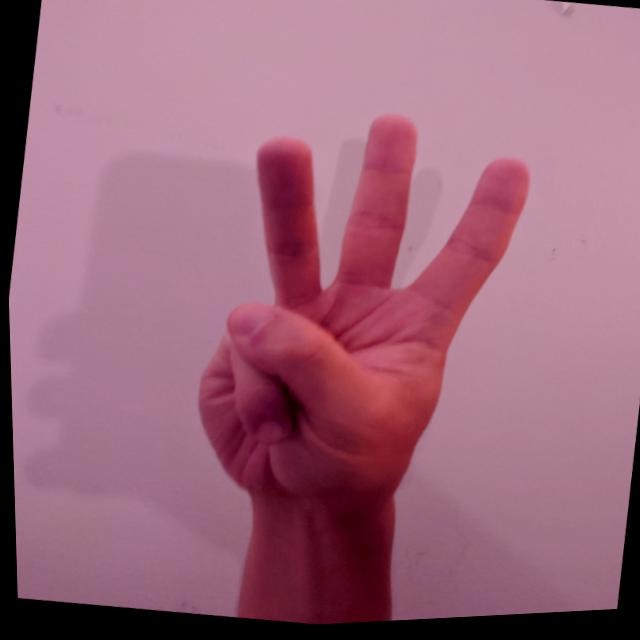W: (167, 82, 553, 541)
